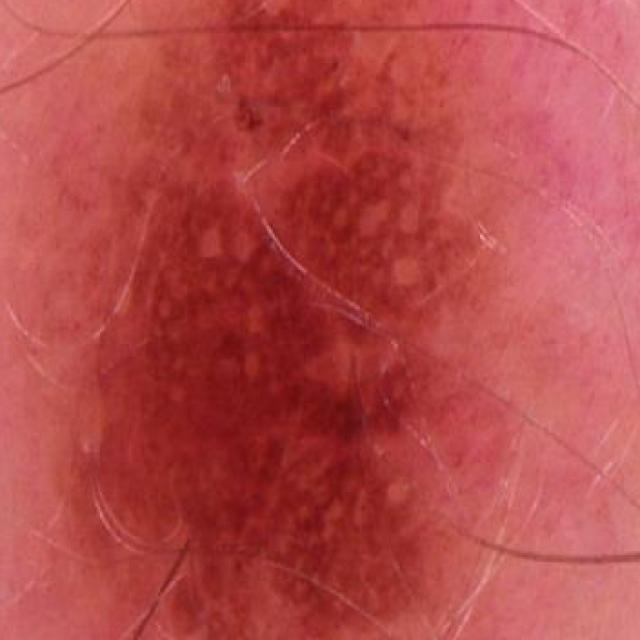NV: (65, 0, 520, 640)
